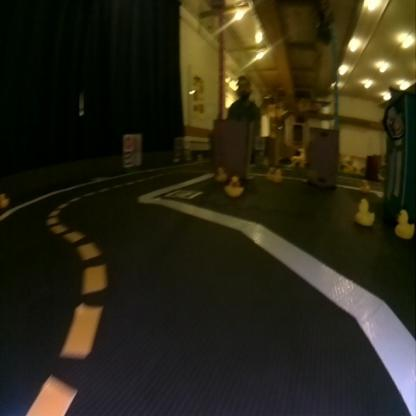Duckie: (395, 210, 413, 238), (356, 200, 373, 223), (226, 176, 242, 195), (215, 167, 228, 181), (0, 194, 7, 206), (274, 172, 281, 181)
QR code: (164, 189, 202, 198), (122, 152, 133, 164)
